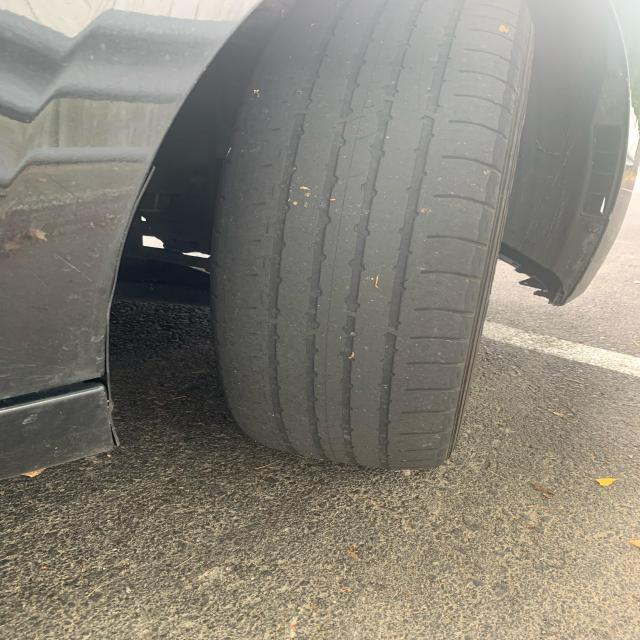Flat spots: (209, 0, 537, 476)
